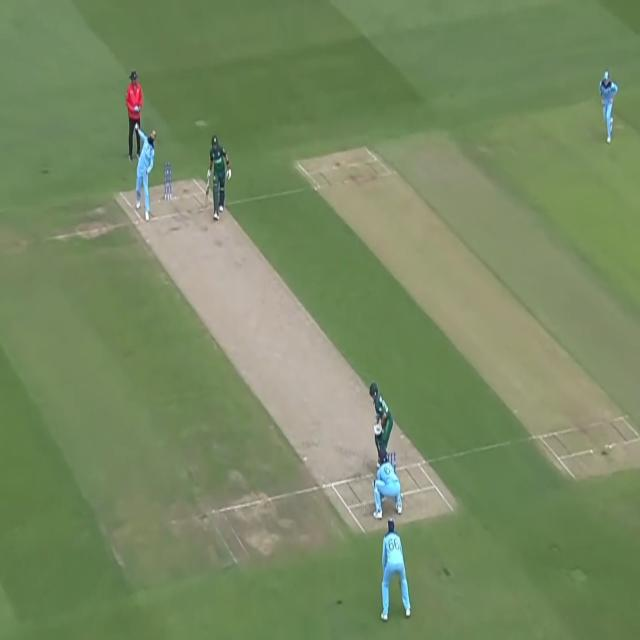ball: (133, 121, 142, 134)
